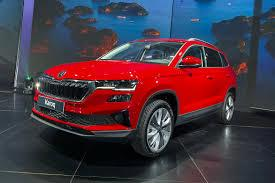skoda: (55, 67, 69, 79)
